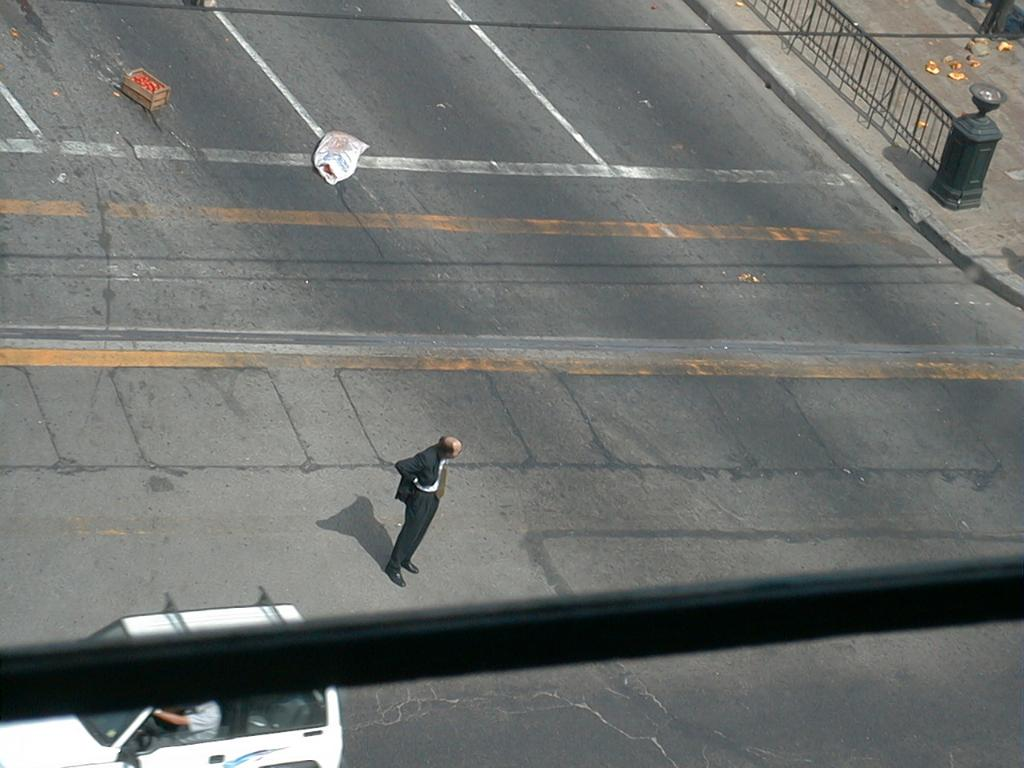Footwear: (390, 569, 407, 589), (409, 562, 419, 570)
